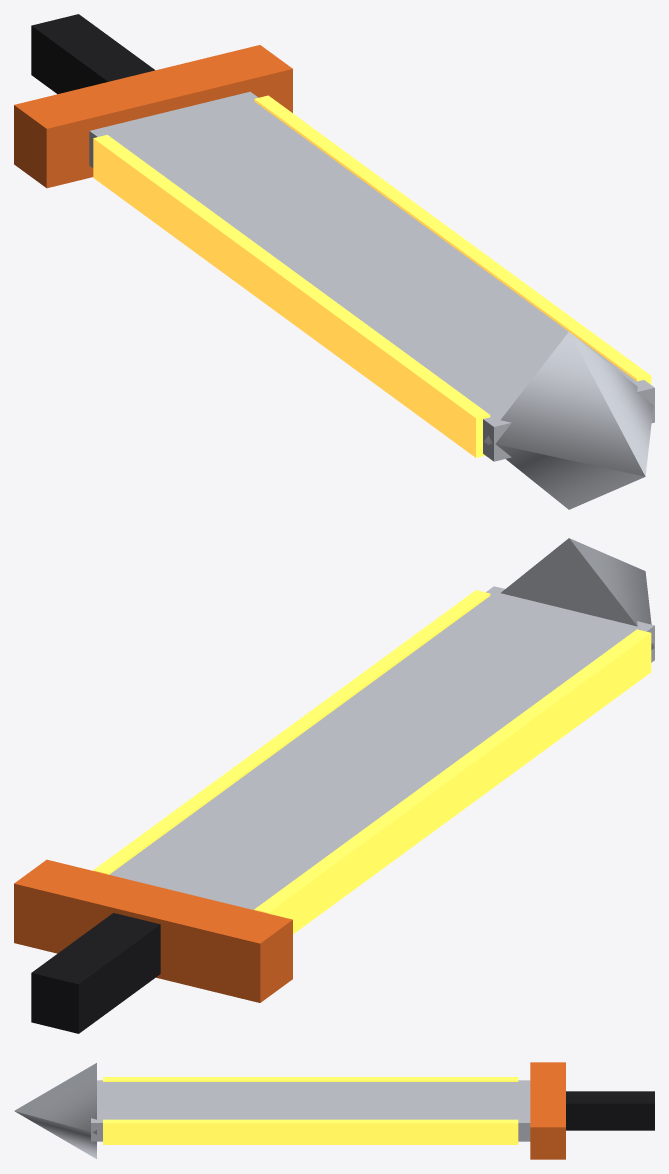
The model's file is fw_gina2.glb.
3 renders of one model, top to bottom at view 1: azimuth 30°, elevation 25°; view 2: azimuth 150°, elevation 25°; view 3: azimuth 270°, elevation 25°, orthographic. The views are drawn at different scales.
Visible parts, largest first — view 1: fw_gina2; view 2: fw_gina2; view 3: fw_gina2.
Boxes of the visible parts, x1,y1,x2,y2 form: fw_gina2: (14,14,654,509); fw_gina2: (14,538,654,1033); fw_gina2: (14,1062,654,1159).
Bounding box in the file's own units: 0.26 × 0.18 × 1.08.
